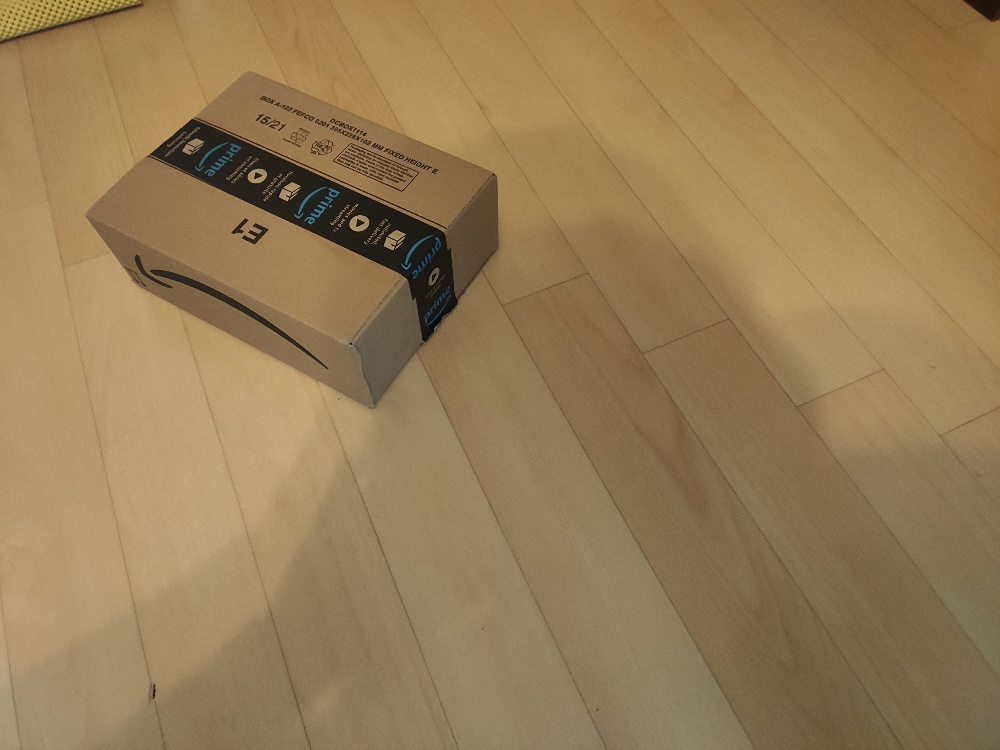good-parcel: (67, 64, 508, 414)
